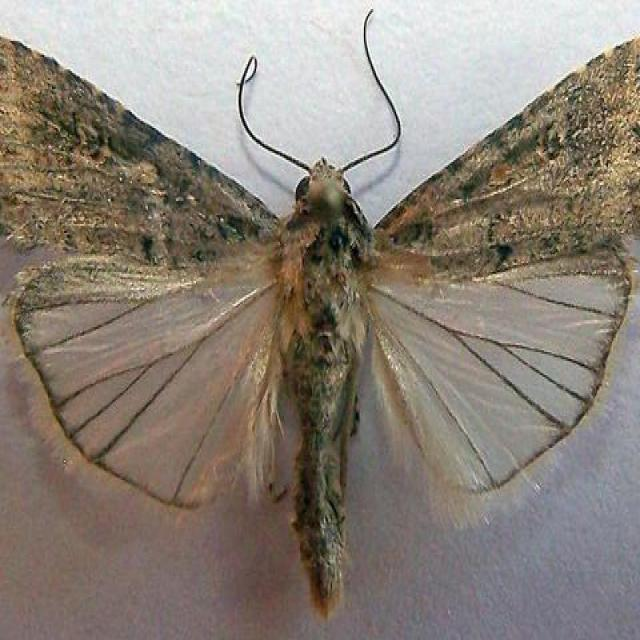BeetArmyWorm-Adult-: (1, 11, 639, 620)
